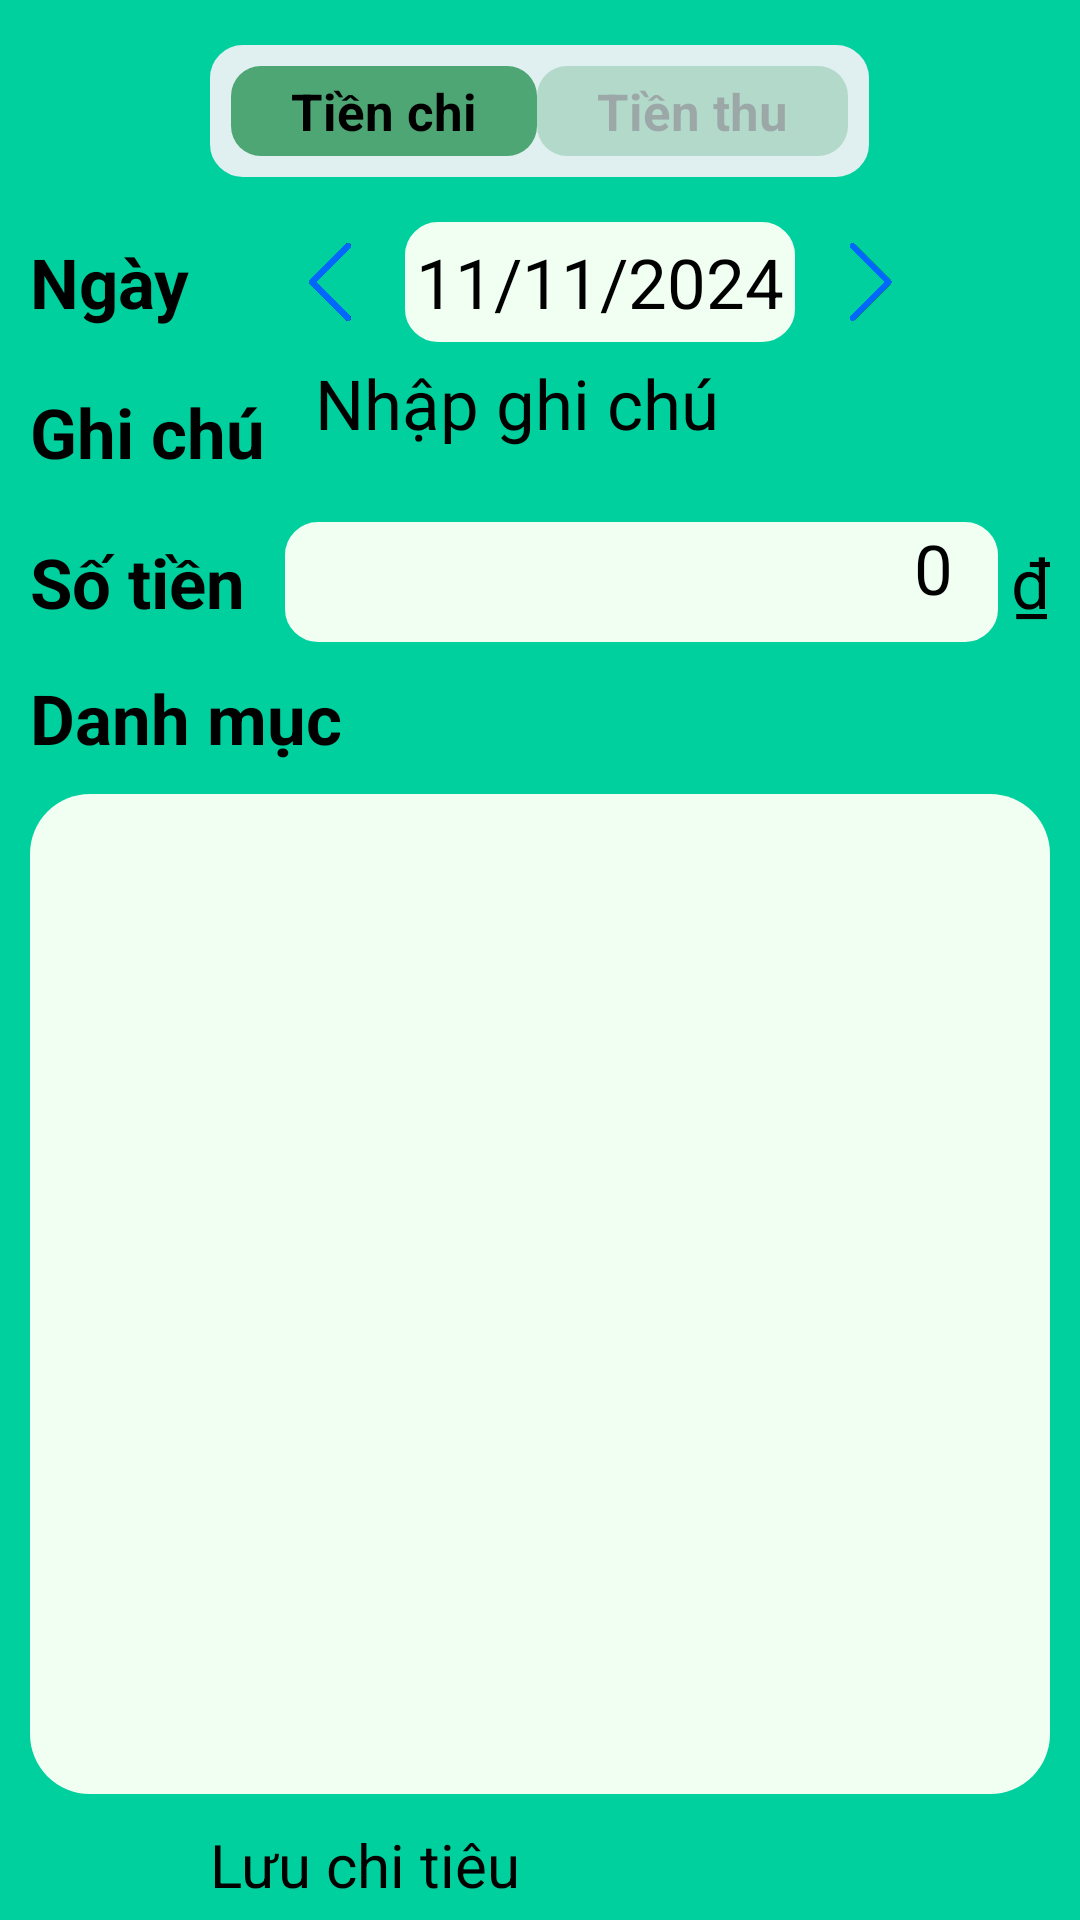

Where icons sit on this 1080px x 1920px app screen, as [x1,y1,x2,y2]:
left arrow: [309,243,351,321]
right arrow: [850,243,892,321]
